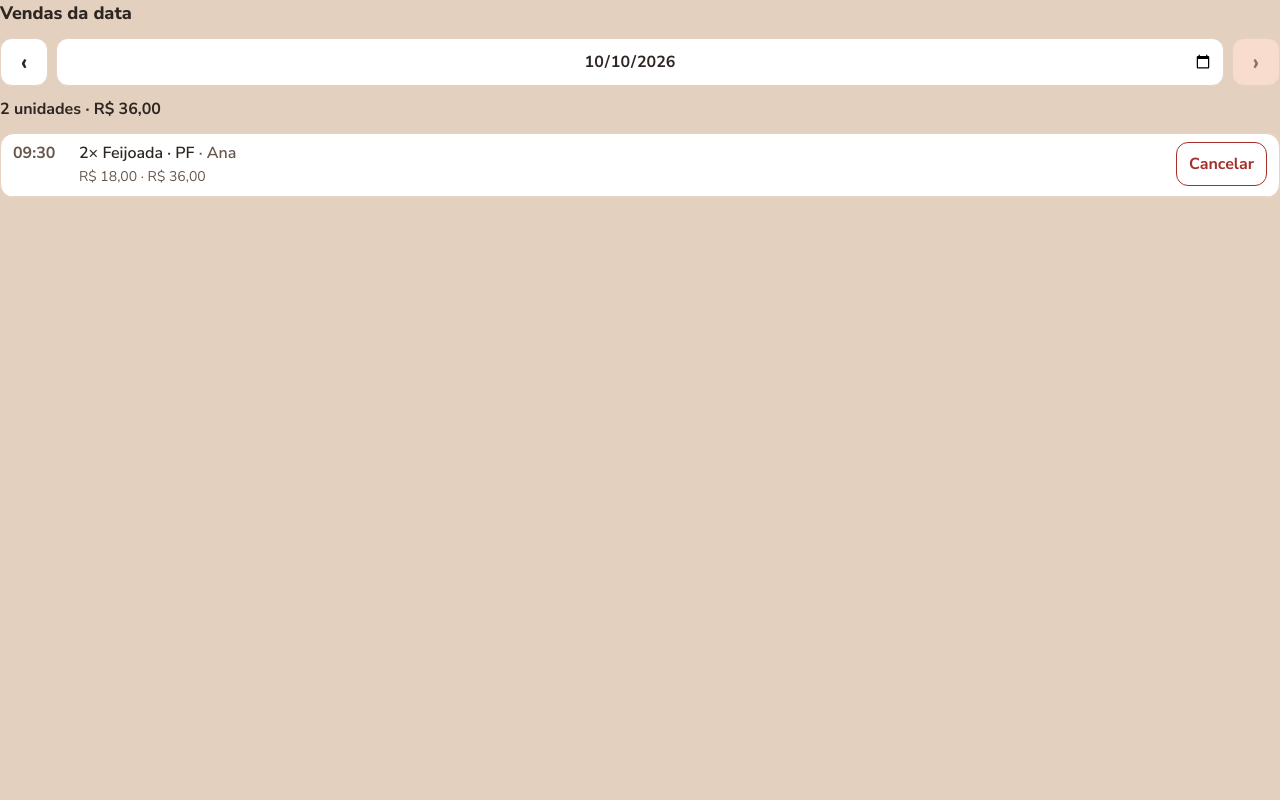
Scenario: UI-05 — vendas da data › 409 mostra jaCancelada
Click the button "Cancelar": (1222, 164) [1176, 142, 1267, 186]
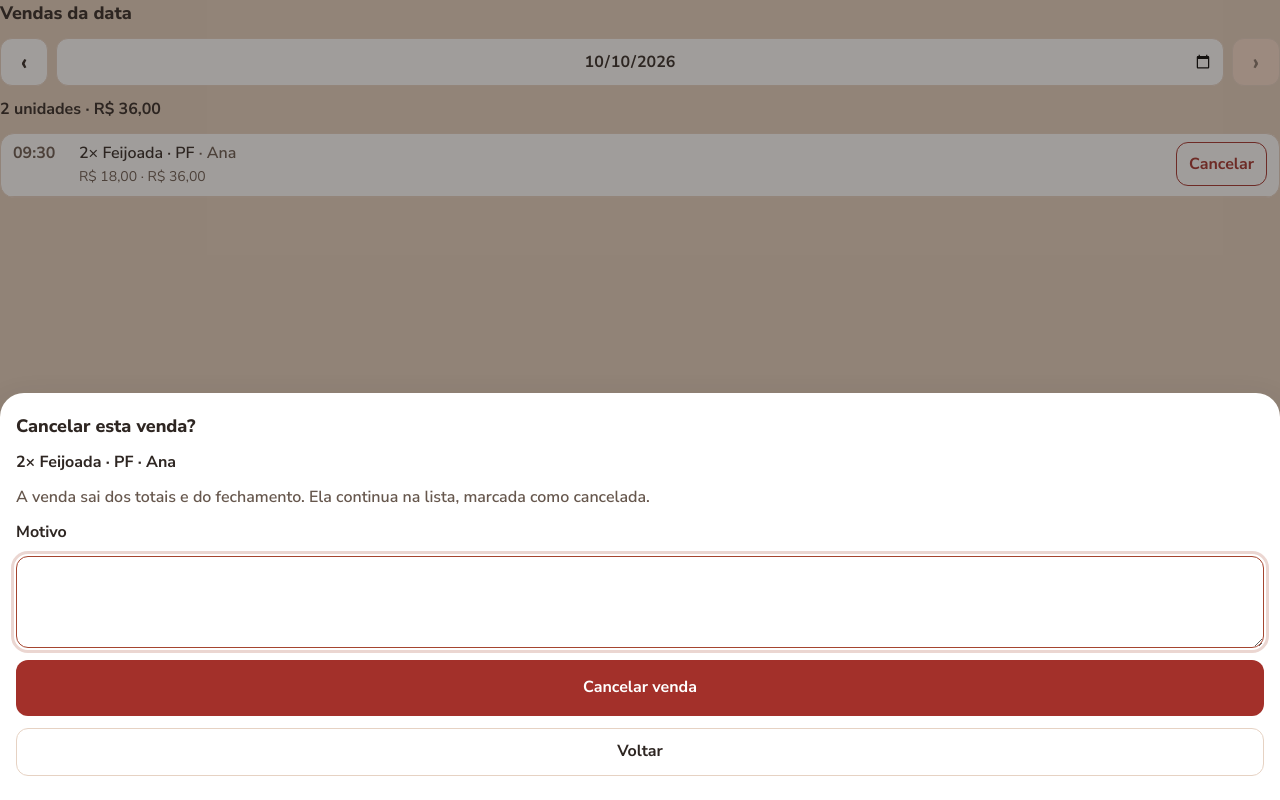
In the text box: (640, 602) [16, 556, 1264, 648], type "Duplicada"
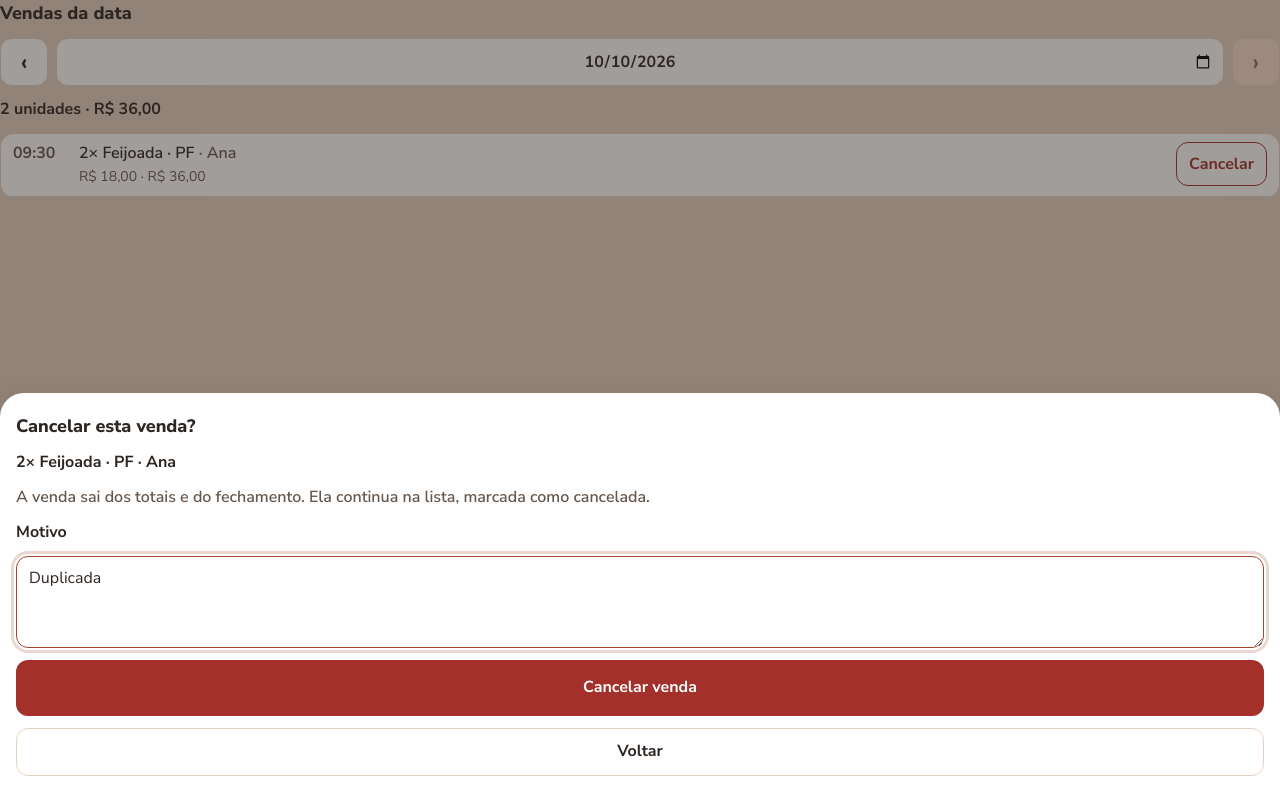
Click the button "Cancelar venda": (640, 688) [16, 660, 1264, 716]
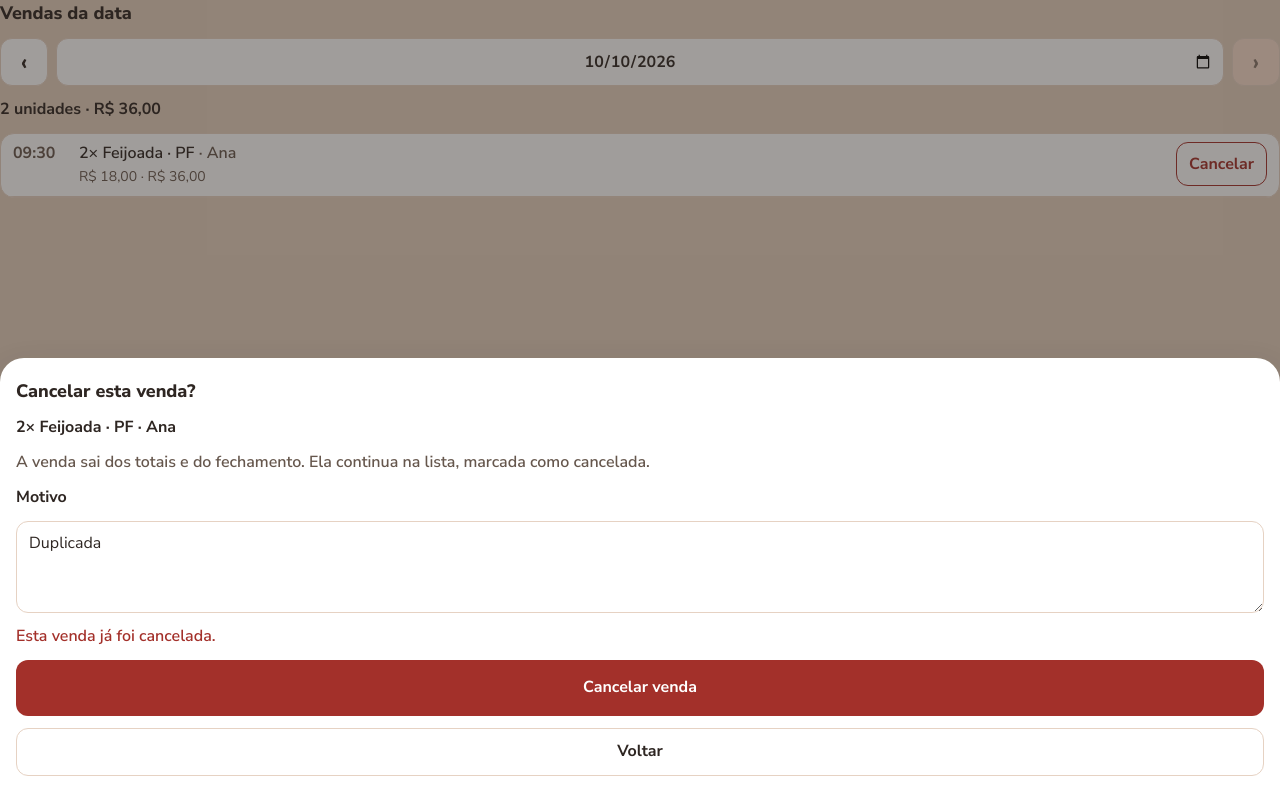
expect the text "Esta venda já foi cancelada." is shown: met, box [16, 625, 216, 647]
